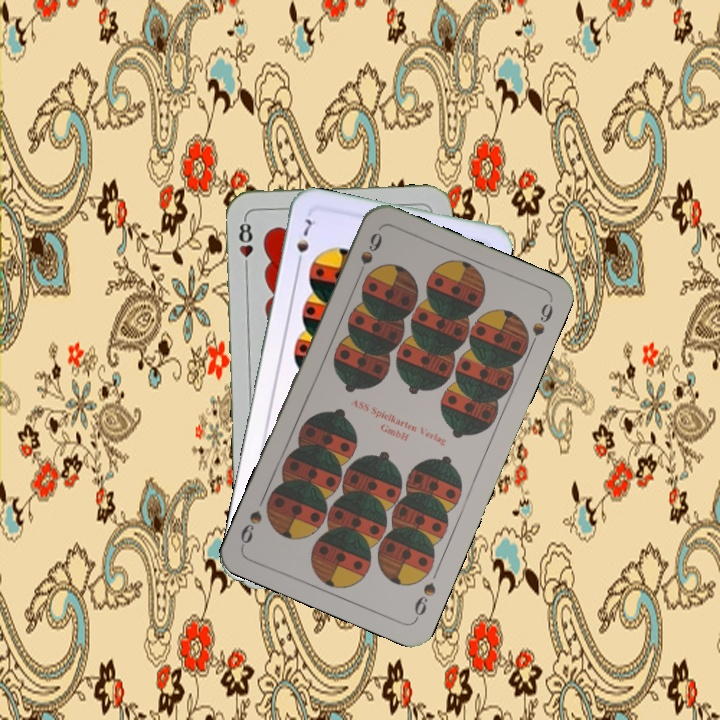H8: (235, 214, 255, 273)
S7: (292, 214, 315, 270)
S9: (352, 228, 385, 283), (410, 578, 439, 623)
